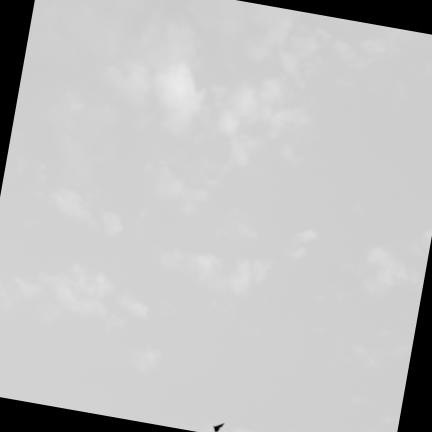Shahed: (214, 423, 225, 432)
